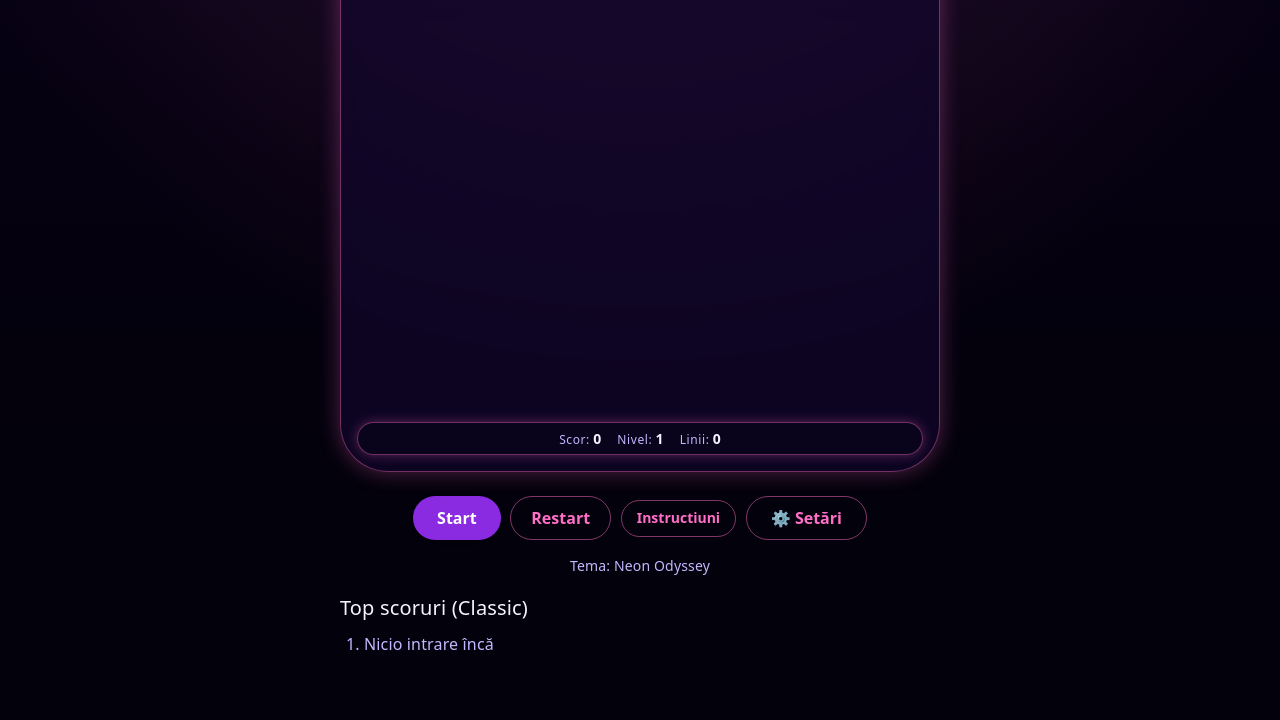
Test: GameDashboard › opens settings dialog when pressing the settings button
(page scrolled)
What coordinates should you click on to do the following:
click the button with test id "settings-button"
I would click on:
 (806, 518)
Its box is x1=746 y1=496 x2=867 y2=540.
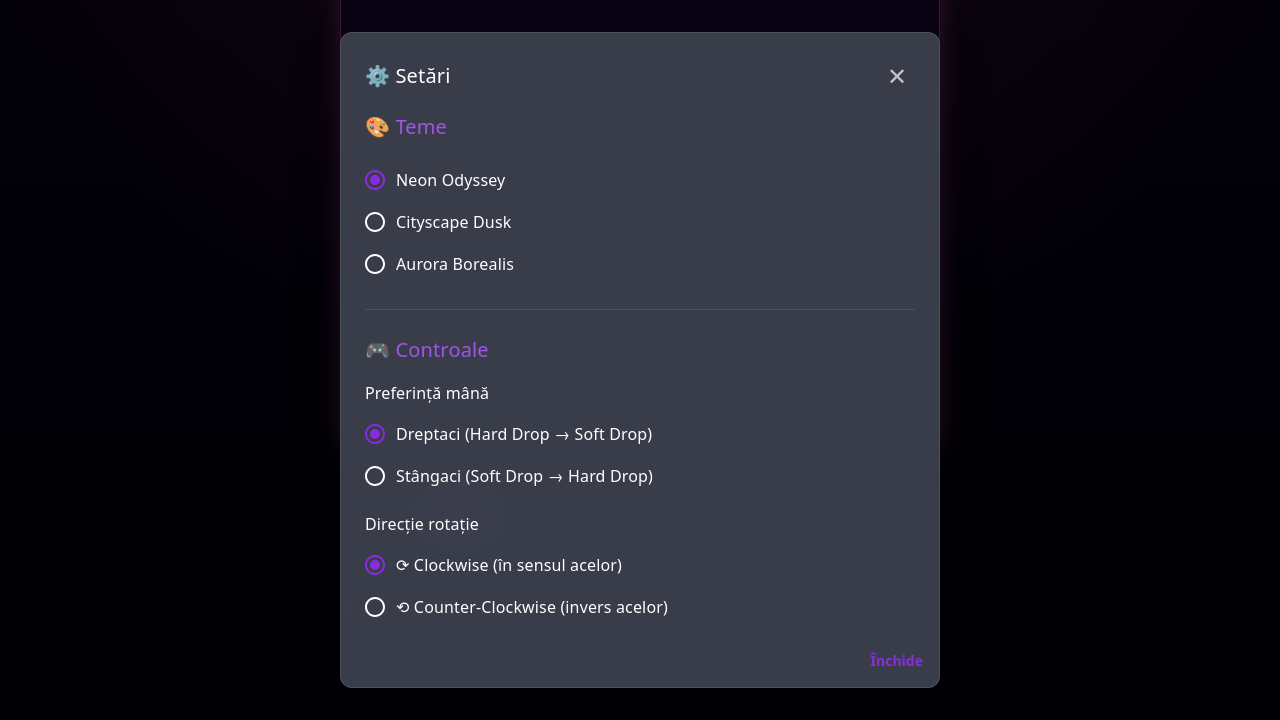
expect the dialog is shown: met, box x1=340 y1=32 x2=940 y2=688
expect the heading "🎮 Controale" is shown: met, box x1=365 y1=336 x2=489 y2=363
expect the heading "🎨 Teme" is shown: met, box x1=365 y1=113 x2=447 y2=140
